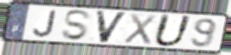9: (190, 17, 219, 48)
J: (32, 10, 58, 39)
S: (60, 9, 93, 42)
U: (151, 13, 194, 48)
V: (94, 9, 130, 44)
X: (122, 12, 157, 46)
